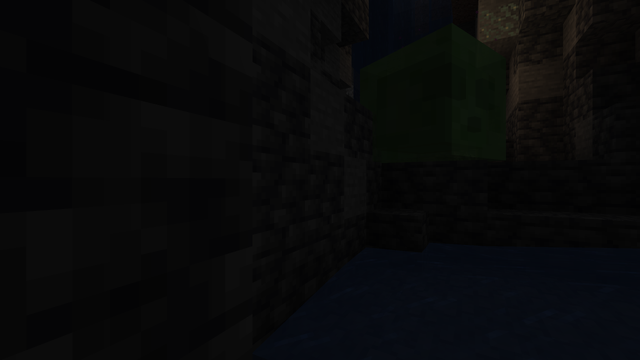slimes: (363, 16, 494, 164)
